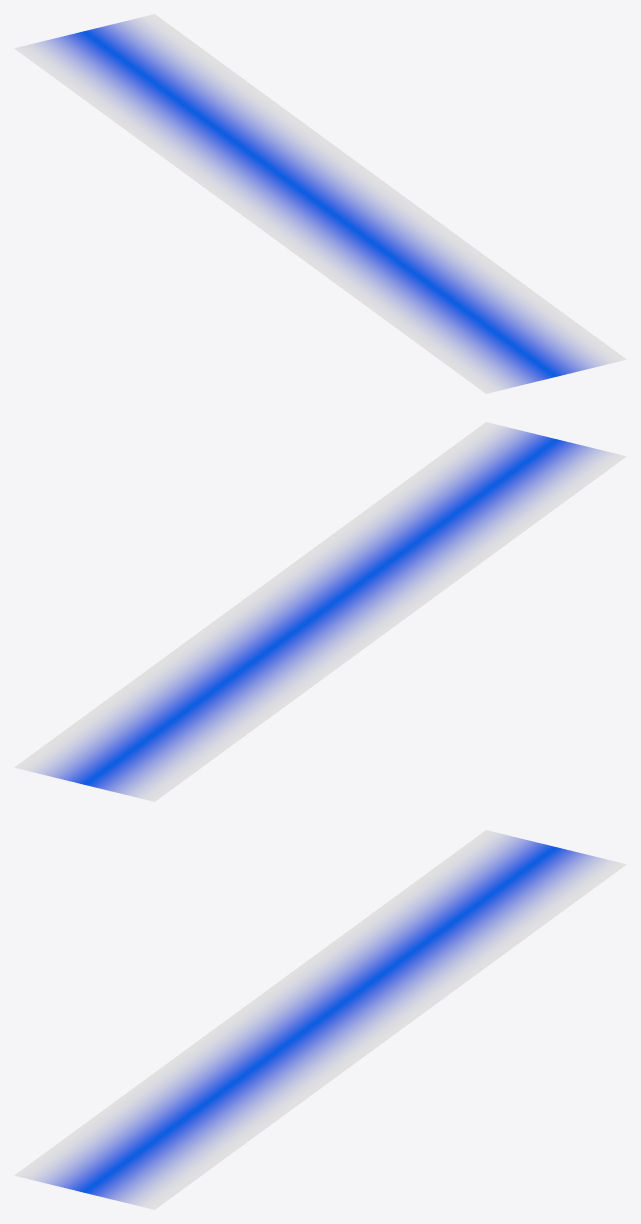
The model's file is suelo.glb.
3 views of the same model, one above another, from view 1: azimuth 30°, elevation 25°; view 2: azimuth 150°, elevation 25°; view 3: azimuth 330°, elevation 25° (orthographic).
Visible parts, largest first — view 1: suelo:Mesh; view 2: suelo:Mesh; view 3: suelo:Mesh.
Part boxes in pixels (<box>): suelo:Mesh: <box>14,14,626,393</box>; suelo:Mesh: <box>14,422,626,801</box>; suelo:Mesh: <box>14,830,626,1209</box>.
Size of the model in its own units: 8 by 0 by 46.46.
1 material, 1 textured.
